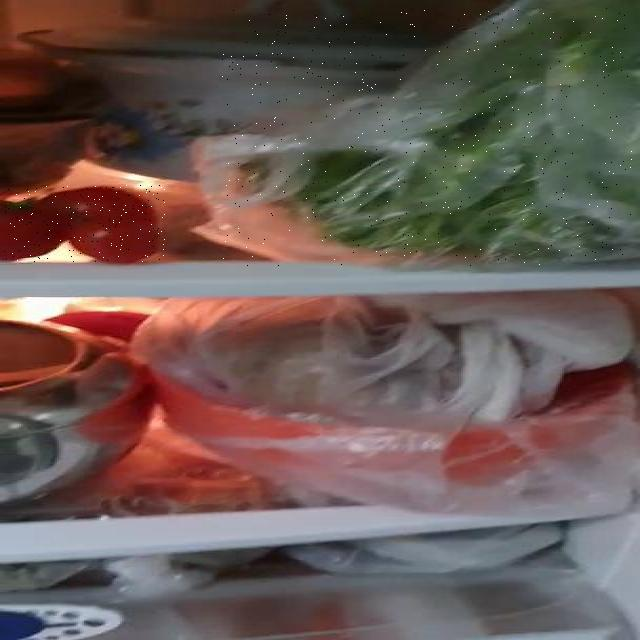lettuce: (221, 8, 632, 266)
tomato: (4, 185, 165, 262)
